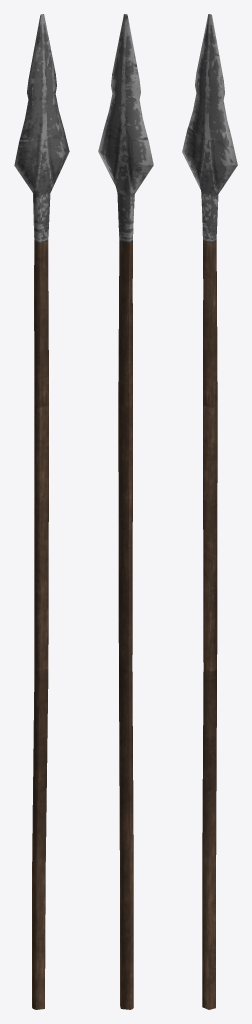
The model's file is ARC0510146.fbx.
The picture shows the model from 3 angles, left to right: view 1: azimuth 30°, elevation 25°; view 2: azimuth 150°, elevation 25°; view 3: azimuth 330°, elevation 25°; orthographic projection.
Parts seen in each view (by area): view 1: smARC0510146; view 2: smARC0510146; view 3: smARC0510146.
Part boxes in pixels (<box>): smARC0510146: <box>14,14,69,1009</box>; smARC0510146: <box>98,14,153,1009</box>; smARC0510146: <box>182,14,237,1009</box>.
Bounding box in the file's own units: 10.65 × 182 × 2.57.
1 material, 1 textured.
